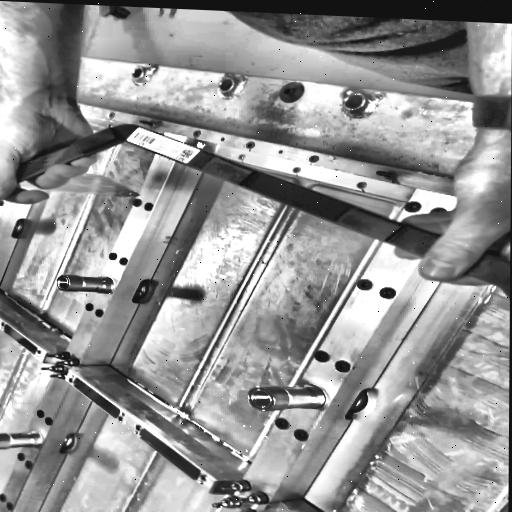b_casing: (0, 48, 512, 512)
busbar: (0, 121, 510, 311)
